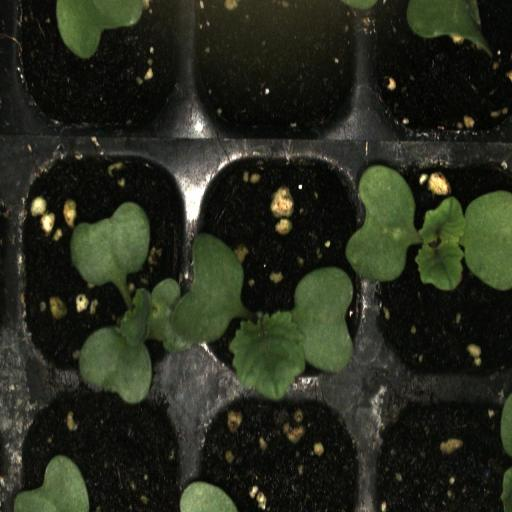noseedling: (193, 0, 365, 153)
seedling: (194, 155, 370, 392), (369, 154, 512, 393)
